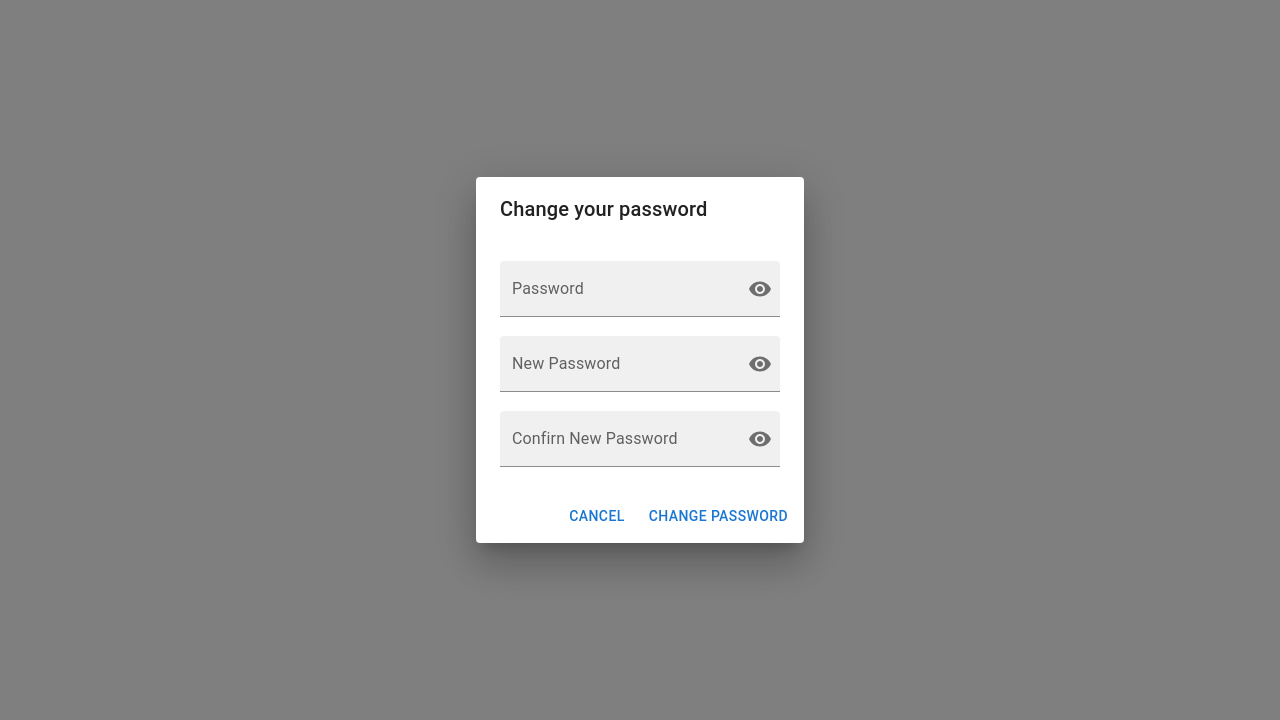
Test: ChangePasswordDialog: › Tests with requests: › Should show confirm password error message.
The image size is (1280, 720).
Note: User fills all inputs correctly
In the password field with placeholder "Password you logged in": (616, 289) top-left (500, 261), bottom-right (732, 317), type "password"
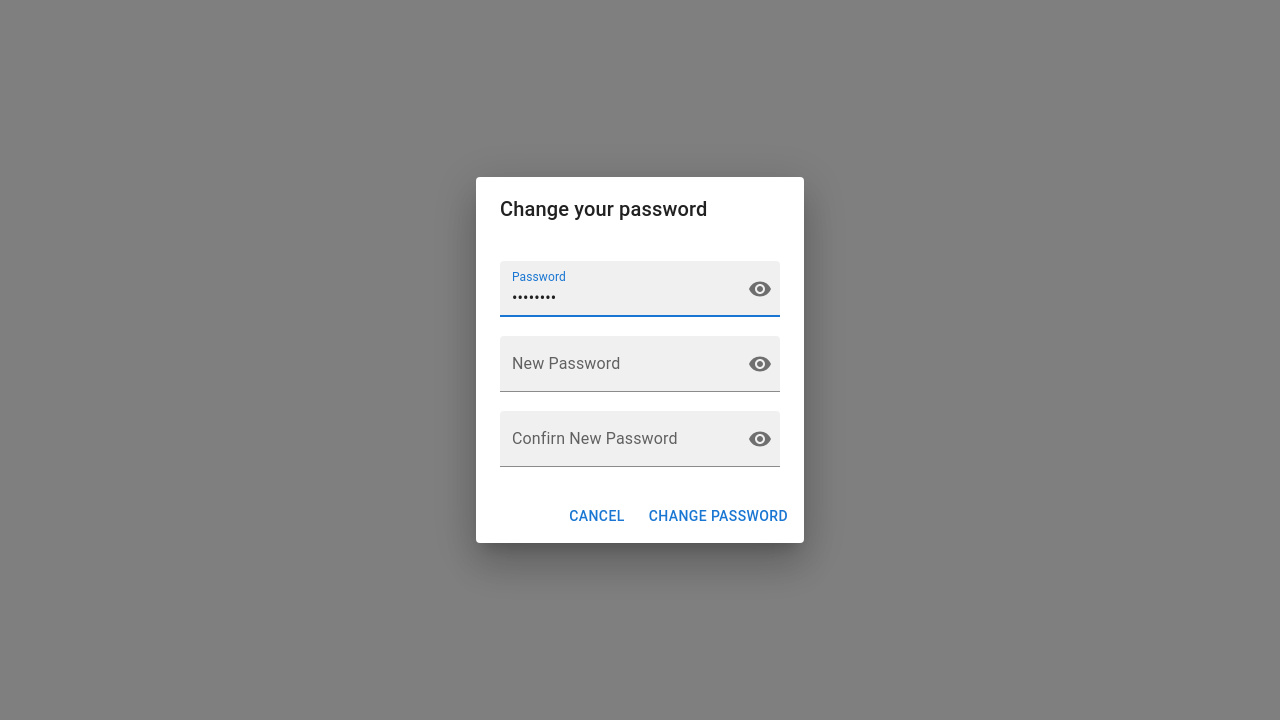
In the password field with placeholder "Min. 8 characters": (616, 364) top-left (500, 336), bottom-right (732, 392), type "password"
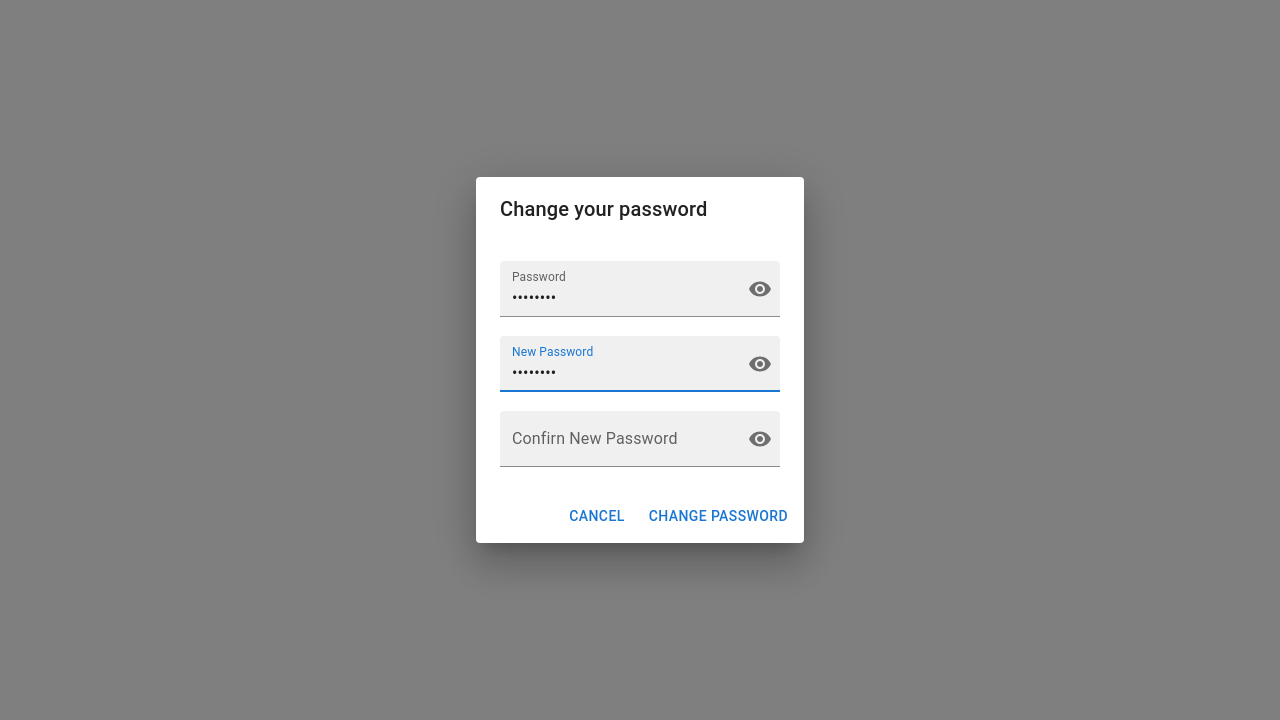
In the password field with placeholder "New password confirmation": (616, 439) top-left (500, 411), bottom-right (732, 467), type "password"
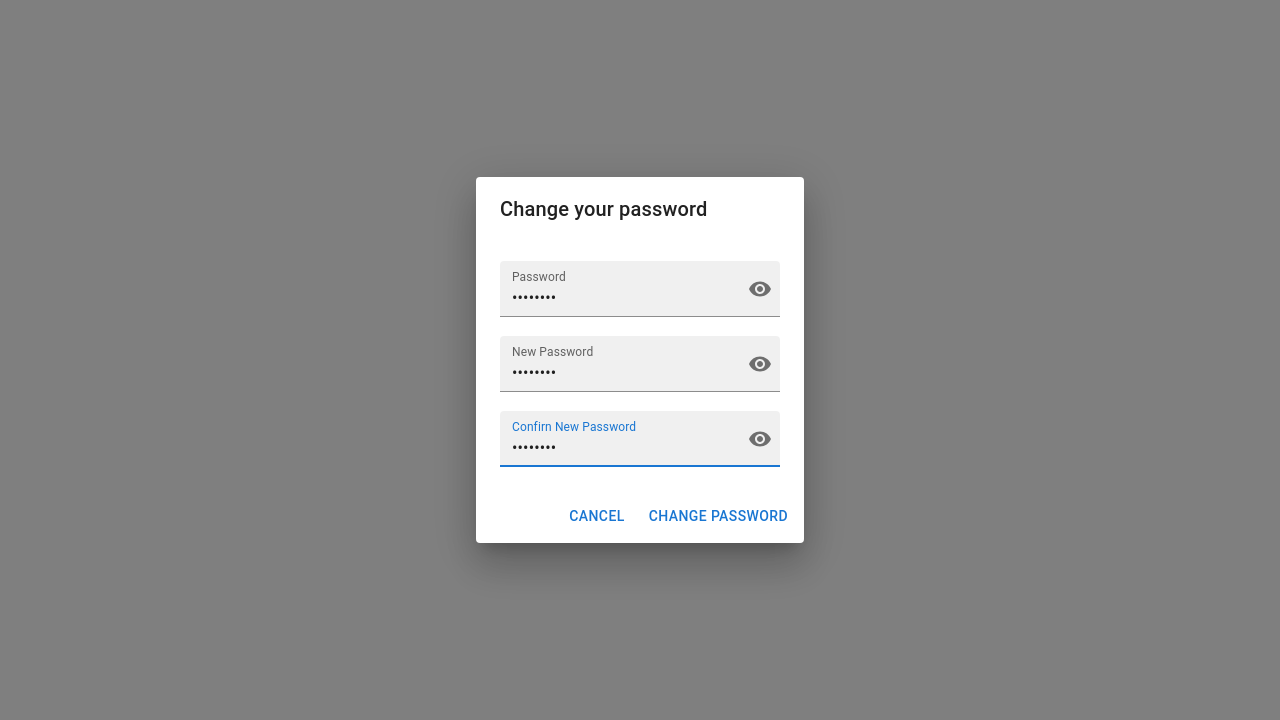
Click the button "Change Password": click(718, 517) top-left (641, 498), bottom-right (796, 535)
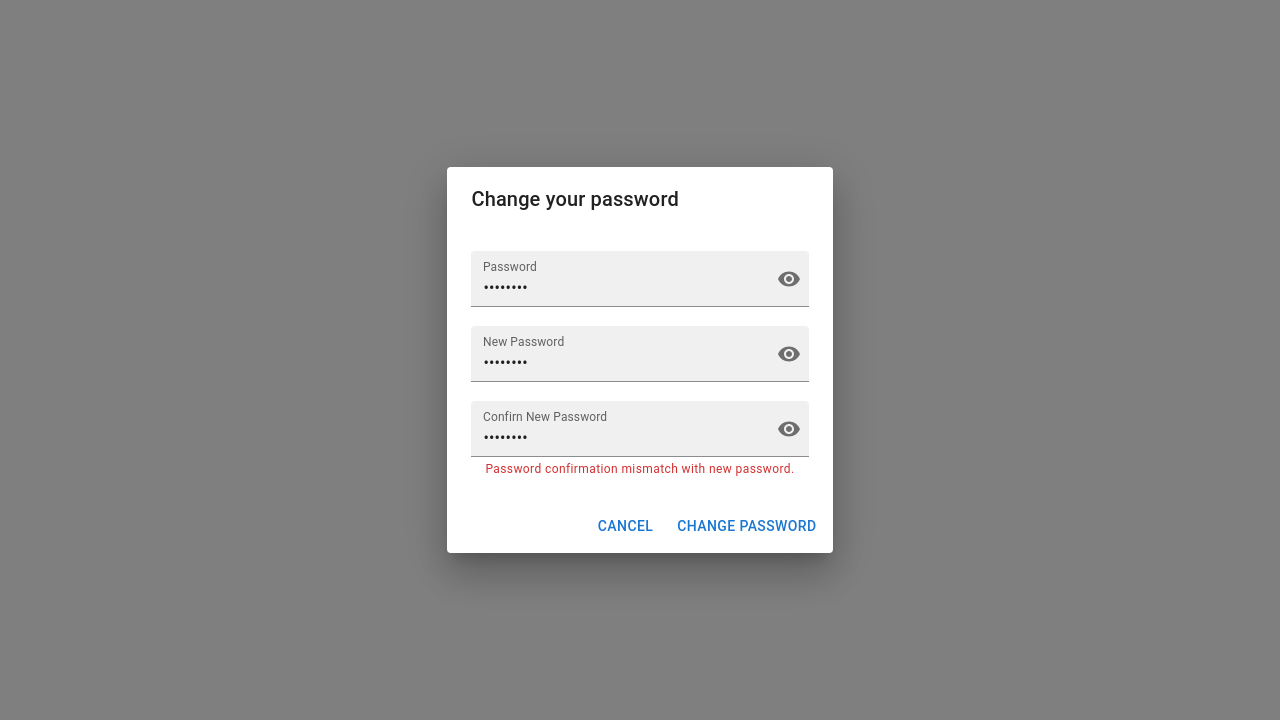
Check: the text "Password confirmation mismatch with new password." is shown, box top-left (485, 460), bottom-right (794, 480)
